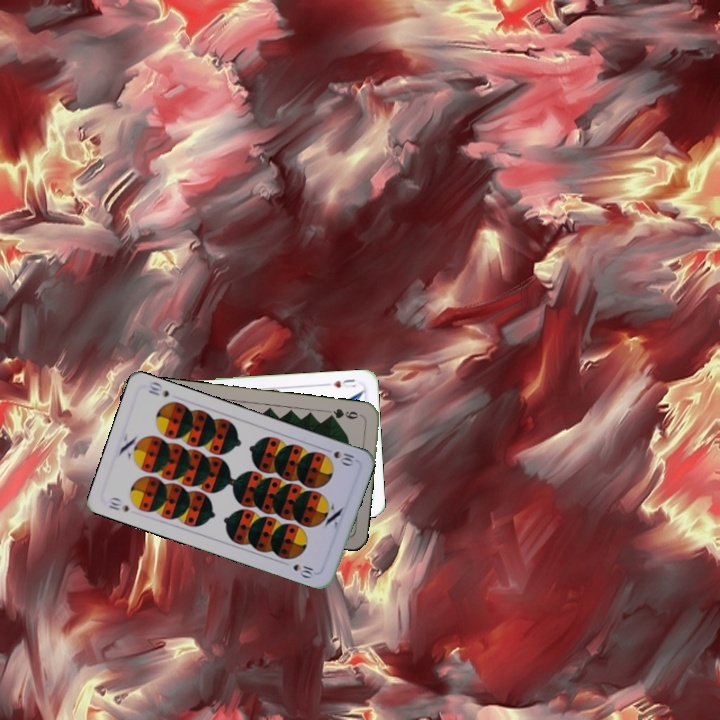G9: (324, 404, 365, 421)
HU: (321, 375, 358, 390)
S10: (329, 447, 358, 469), (105, 493, 132, 515)
